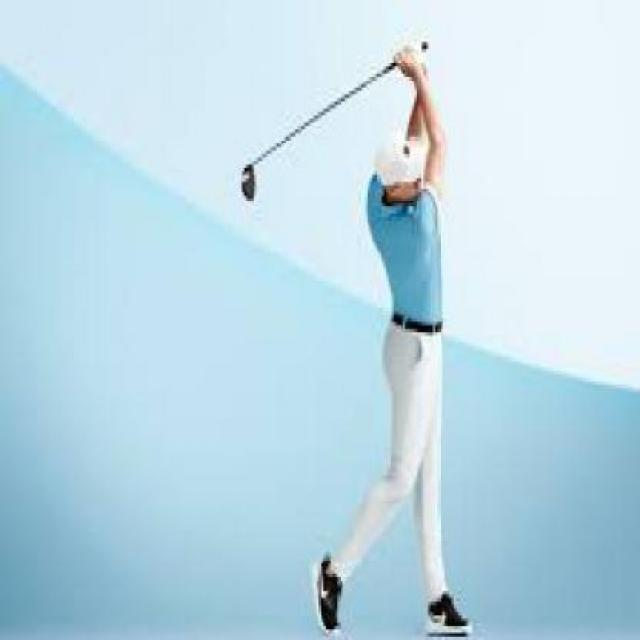Nike: (313, 563, 331, 602)
